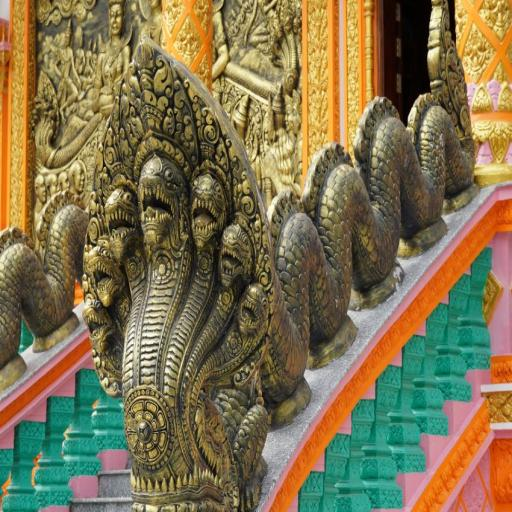hoa: (462, 25, 492, 83), (176, 14, 202, 62), (483, 1, 512, 37), (161, 0, 183, 32), (194, 49, 209, 87), (196, 0, 212, 34)
la: (487, 119, 512, 162), (470, 87, 490, 113), (499, 81, 512, 111)
ran: (80, 71, 268, 512), (29, 88, 65, 162)
than: (92, 1, 128, 110), (54, 23, 89, 96), (286, 95, 301, 131)
